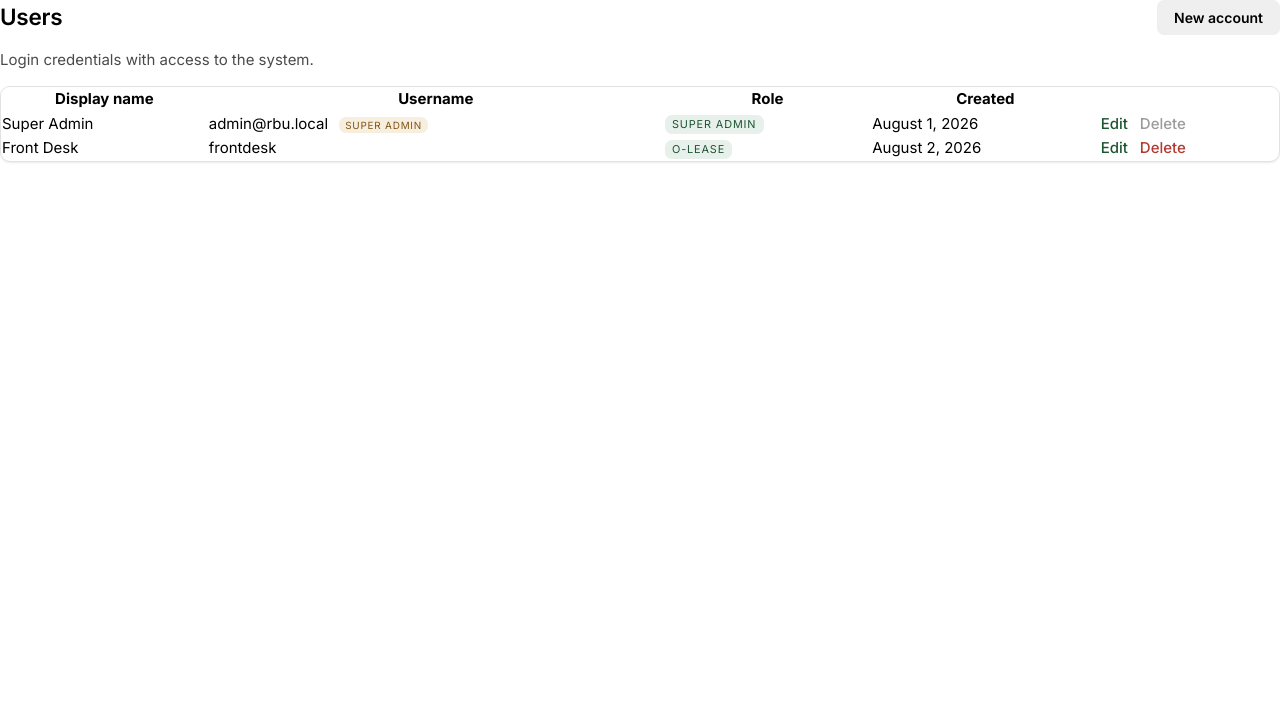
it: UsersView › shows why a reset password was rejected, not just that validation failed
Click the button "Edit" in the row of "Front Desk" at (1114, 149), box [1101, 137, 1128, 160]
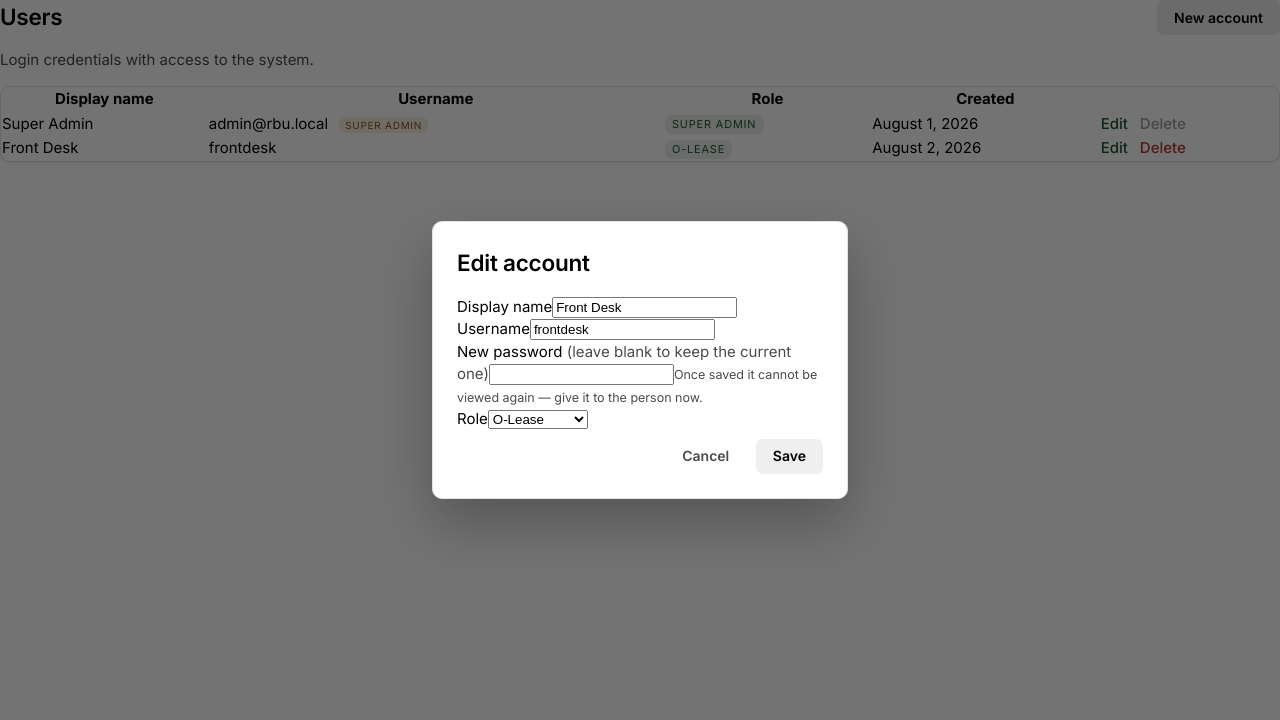
Type "abc12" into the field labelled "New password (leave blank to keep the current one)" at (581, 375), box [489, 364, 674, 385]
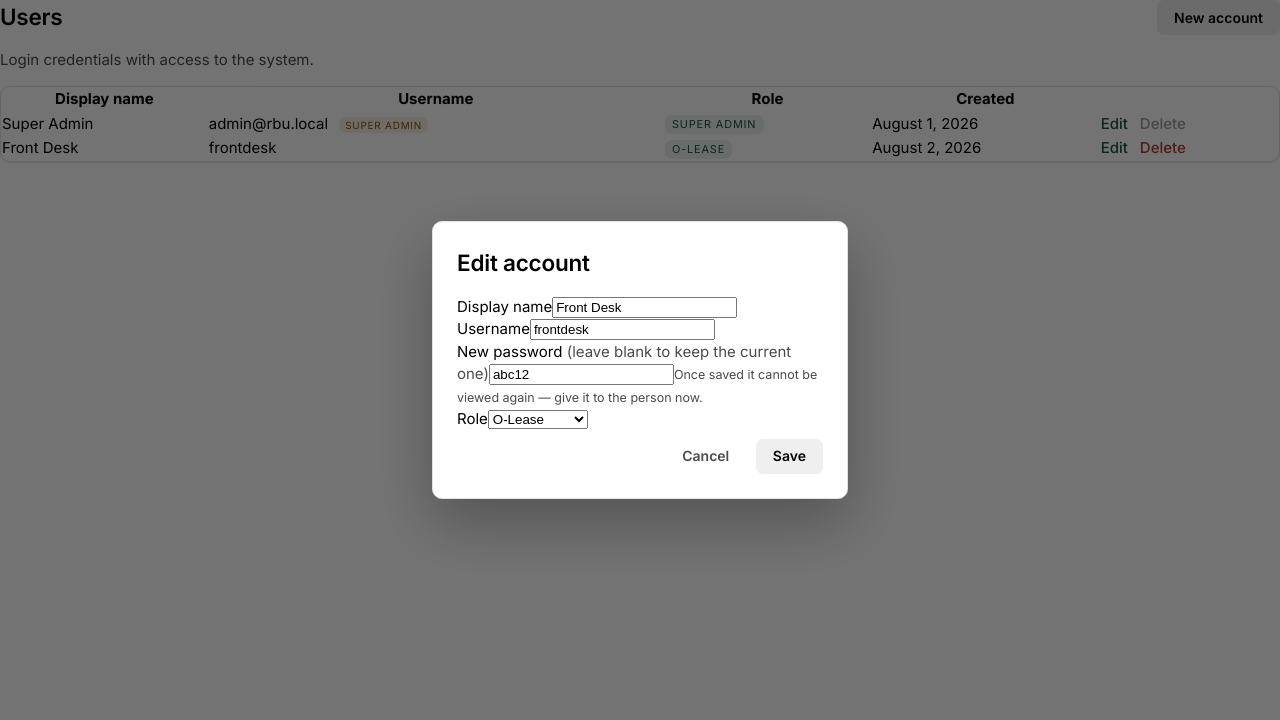
Submit the form, box [457, 296, 823, 474]
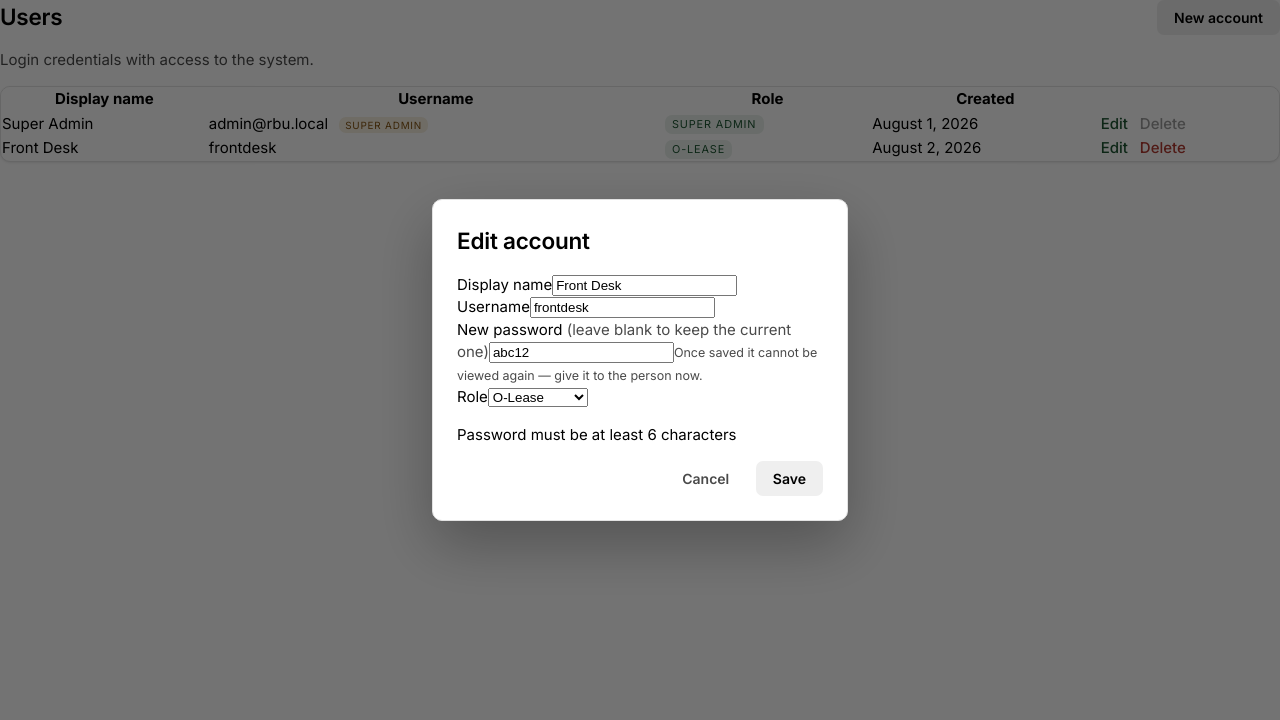
Expected: the text with class "error" reads "Password must be at least 6 characters", [457, 424, 736, 444]
